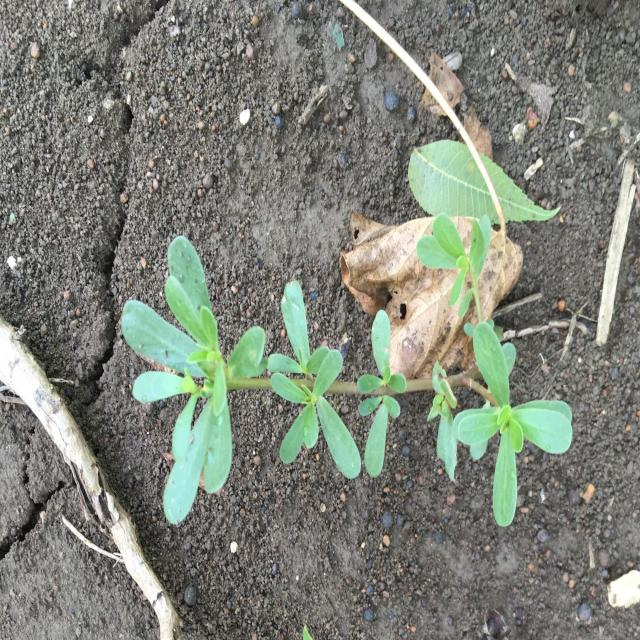Purslane: (121, 213, 573, 527)
